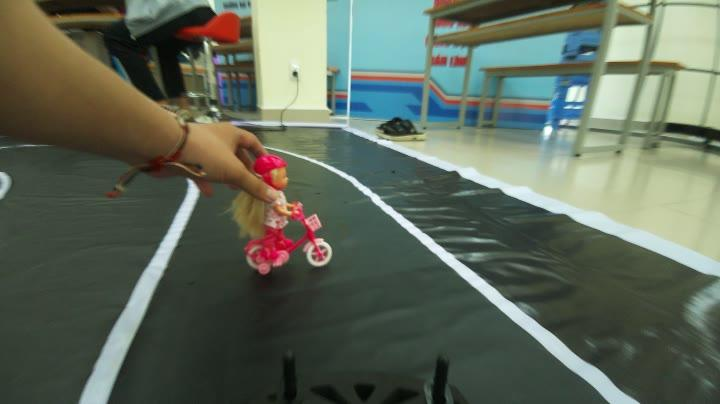pedestrian: (237, 153, 338, 262)
